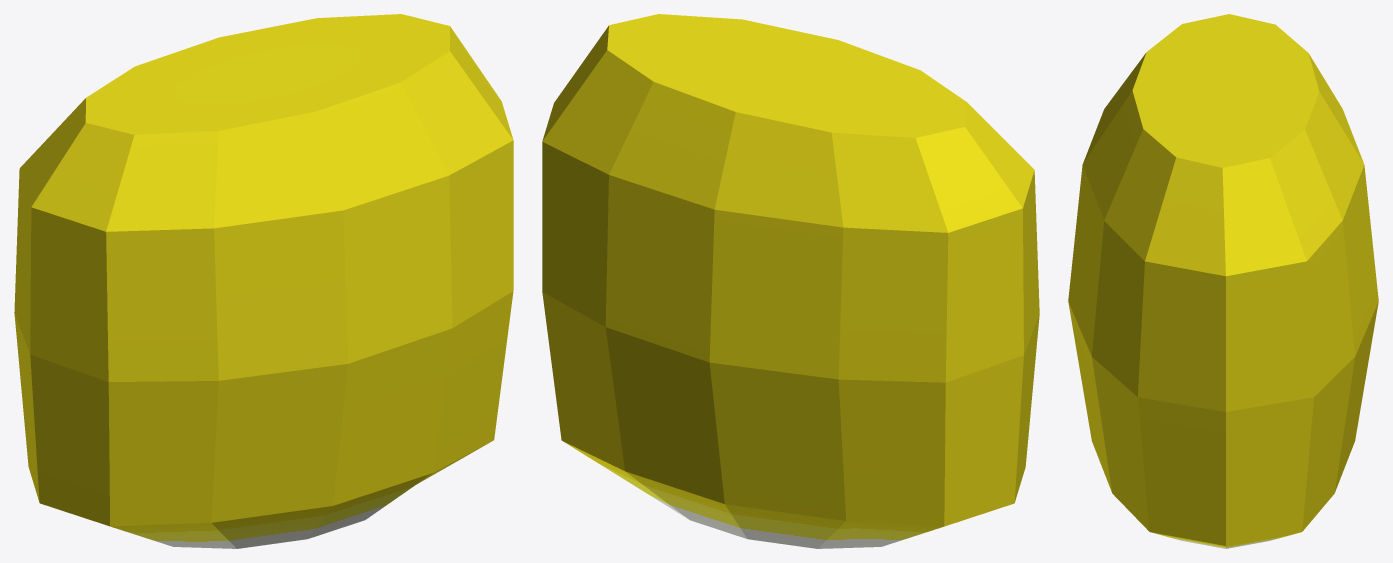
File: Corn.fbx
3 renders of one model, left to right at view 1: azimuth 30°, elevation 25°; view 2: azimuth 150°, elevation 25°; view 3: azimuth 270°, elevation 25°, orthographic. The views are drawn at different scales.
Parts seen in each view (by area): view 1: 구체; view 2: 구체; view 3: 구체.
Boxes of the visible parts, <box> form: 구체: <box>14,14,513,548</box>; 구체: <box>542,14,1039,548</box>; 구체: <box>1068,14,1378,548</box>.
Bounding box in the file's own units: 149 × 90.6 × 131.
